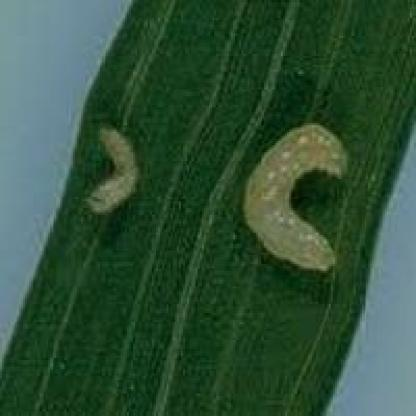whorl-maggot: (236, 112, 358, 278), (84, 108, 150, 220)
